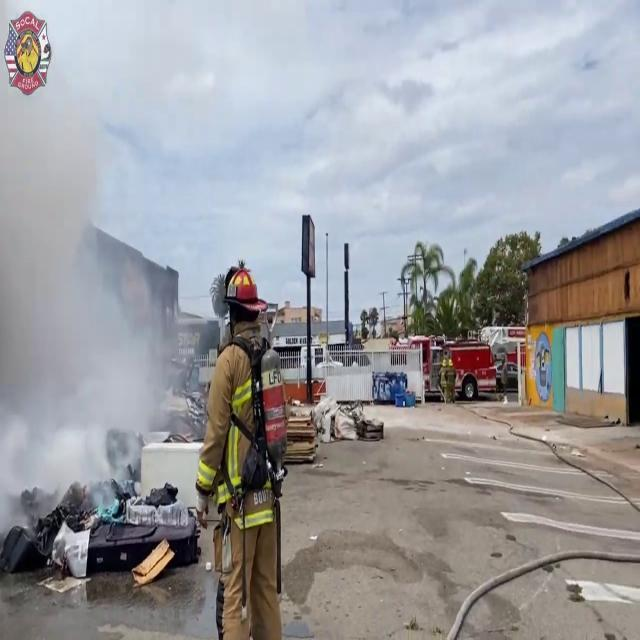Smoke: (0, 1, 186, 516)
